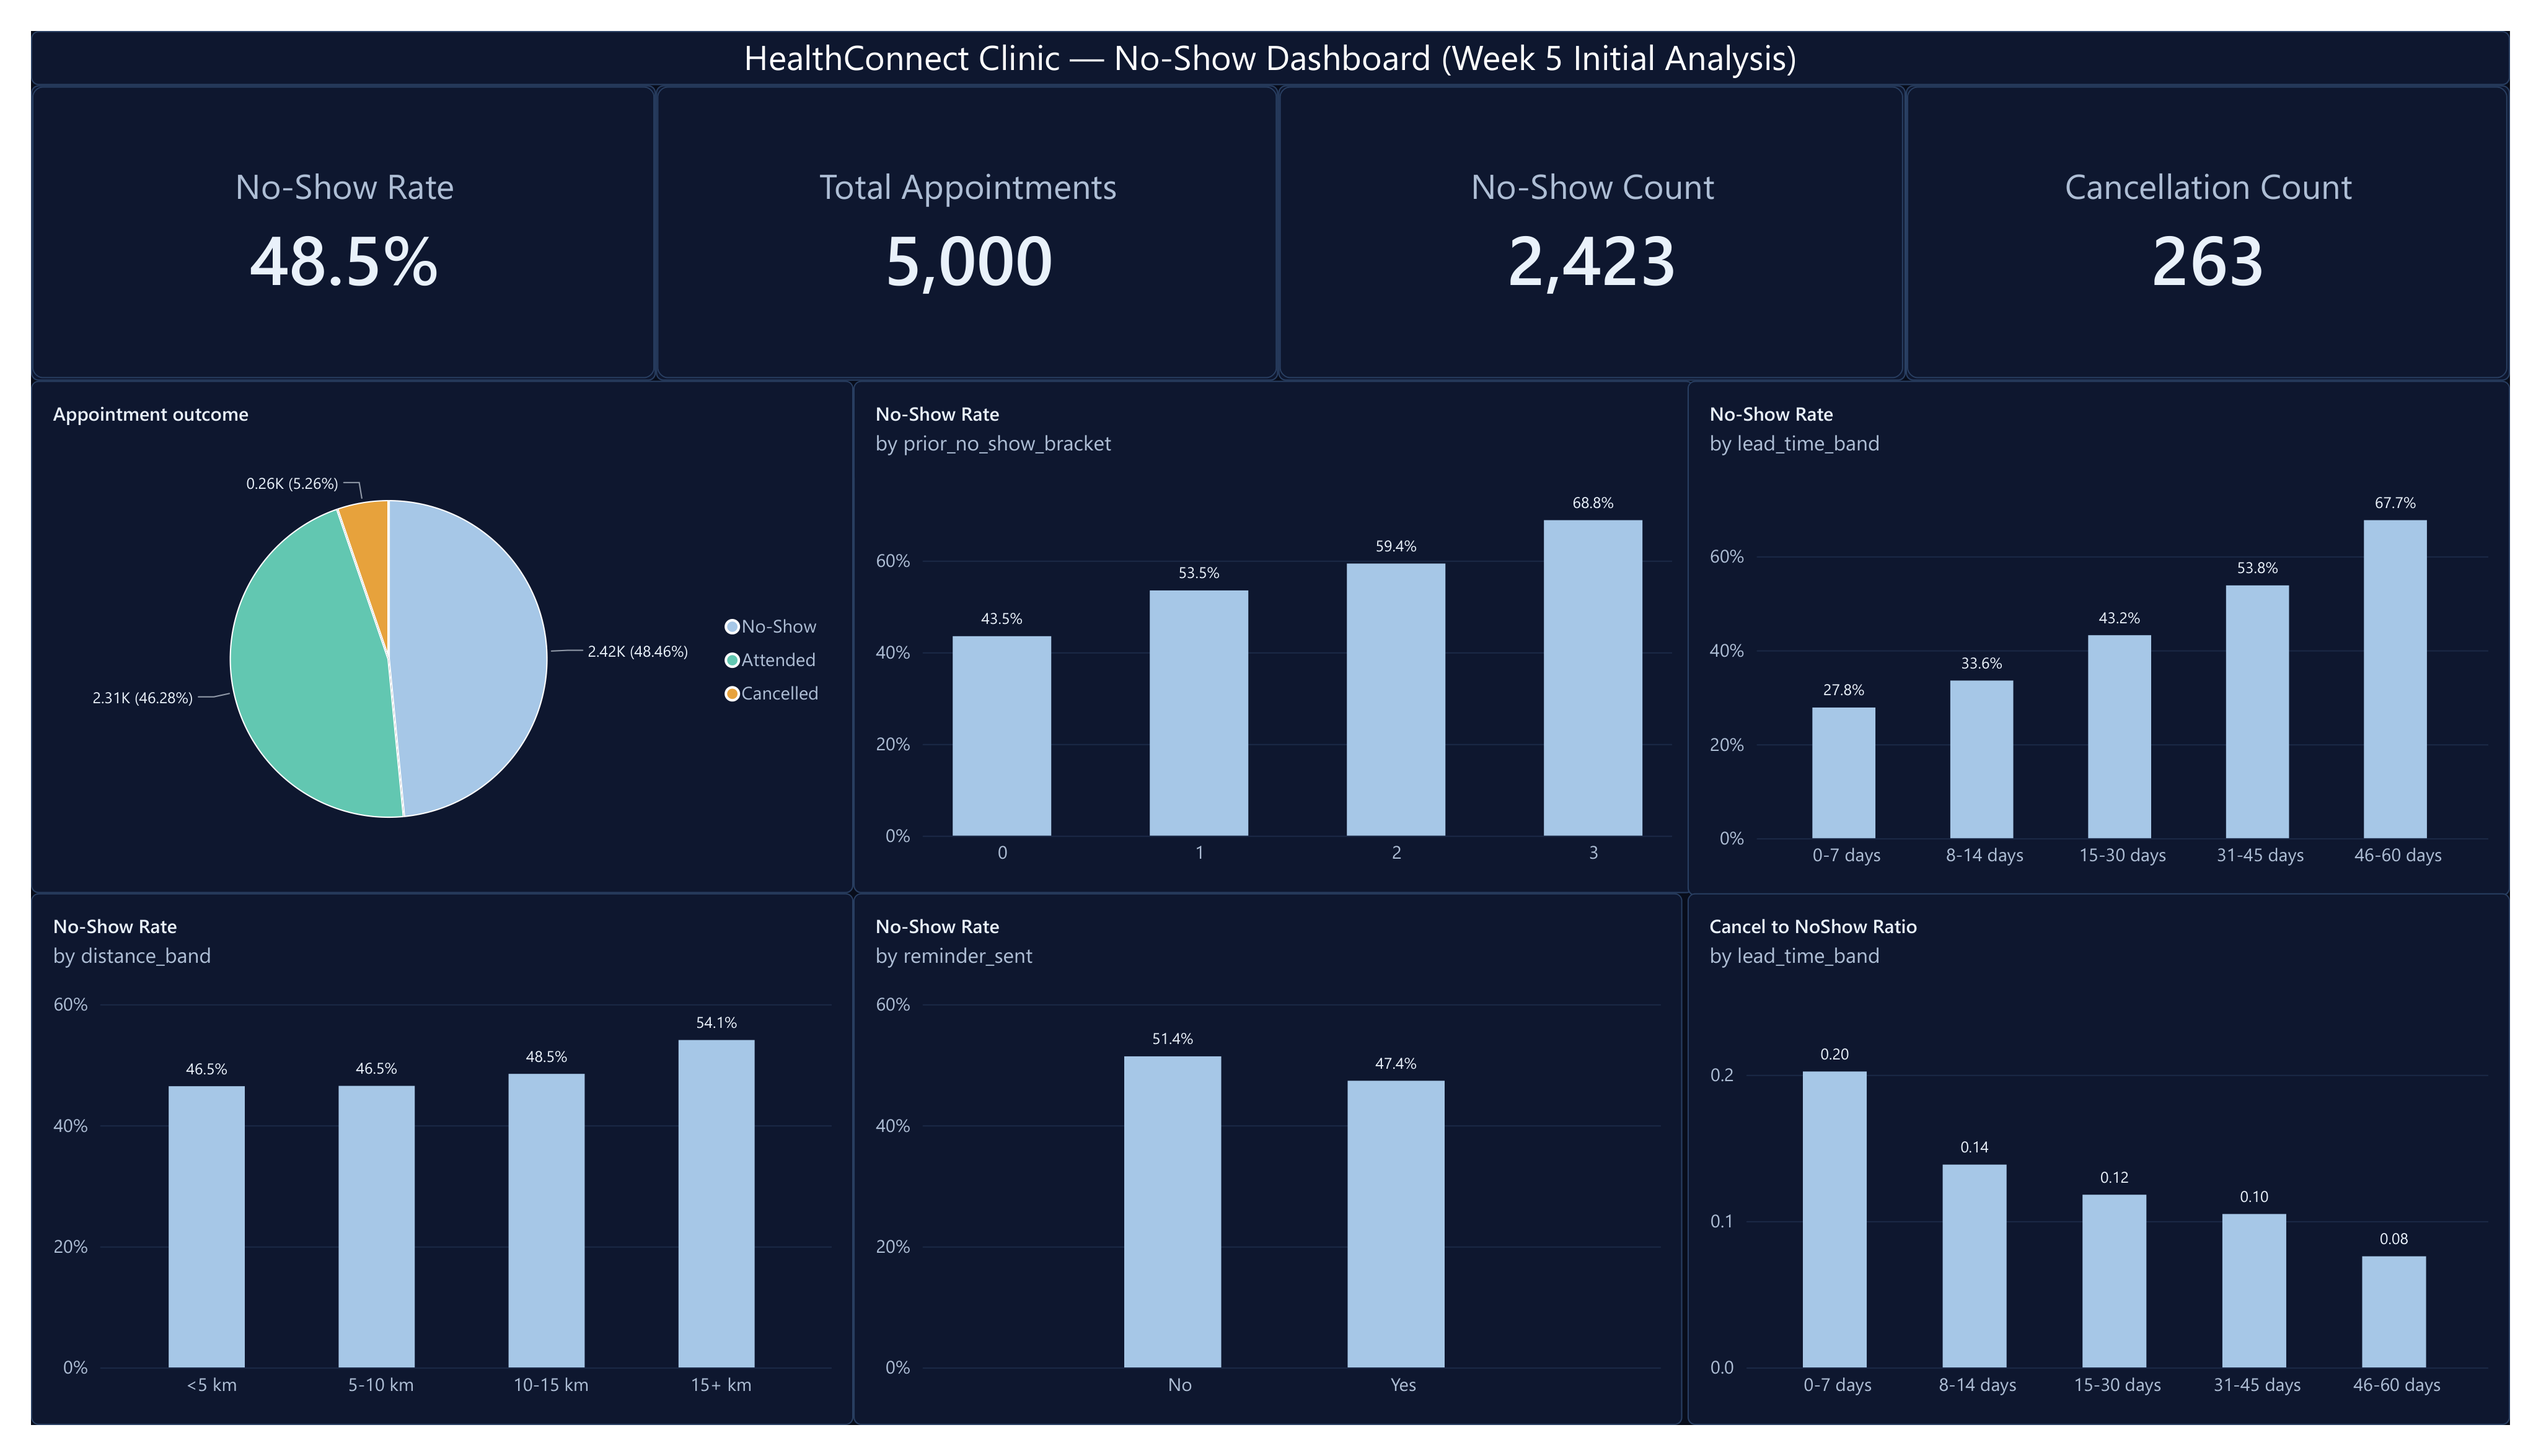

The dashboard page shown, as its layout file describes it:
{"tool":"powerbi","page":{"name":"Page 1","canvas":[1920,1080],"ordinal":0},"visuals":[{"type":"pieChart","title":"Appointment outcome","fields":{"Category":["healthconnect_appointments_prepared.appointment_outcome"],"Y":["CountNonNull(healthconnect_appointments_prepared.appointment_id)"]},"box":[0,270.6,636.8,397.5],"z":0},{"type":"clusteredColumnChart","fields":{"Y":["healthconnect_appointments_prepared.No-Show Rate"],"Category":["healthconnect_appointments_prepared.prior_no_show_bracket"]},"box":[636.8,270.6,651.5,397.5],"z":1000},{"type":"clusteredColumnChart","fields":{"Y":["healthconnect_appointments_prepared.No-Show Rate"],"Category":["healthconnect_appointments_prepared.distance_band"]},"box":[0,668.1,636.8,412.3],"z":2000},{"type":"clusteredColumnChart","fields":{"Y":["healthconnect_appointments_prepared.No-Show Rate"],"Category":["healthconnect_appointments_prepared.reminder_sent"]},"box":[636.8,668.1,642.3,412.3],"z":3000},{"type":"clusteredColumnChart","fields":{"Category":["healthconnect_appointments_prepared.lead_time_band"],"Y":["healthconnect_appointments_prepared.No-Show Rate"]},"box":[1282.8,270.6,636.8,399.4],"z":4000},{"type":"clusteredColumnChart","fields":{"Y":["healthconnect_appointments_prepared.Cancel to NoShow Ratio"],"Category":["healthconnect_appointments_prepared.lead_time_band"]},"box":[1282.8,668.1,636.8,412.3],"z":5000},{"type":"textbox","box":[0,0,1920.4,41.7],"z":6000},{"type":"cardVisual","fields":{"Data":["healthconnect_appointments_prepared.No-Show Rate"]},"box":[0,42.3,484.1,228.2],"z":6001},{"type":"cardVisual","fields":{"Data":["healthconnect_appointments_prepared.Total Appointments"]},"box":[484.1,42.3,482.2,228.2],"z":6002},{"type":"cardVisual","fields":{"Data":["healthconnect_appointments_prepared.No-Show Count"]},"box":[966.3,42.3,485.9,228.2],"z":6003},{"type":"cardVisual","fields":{"Data":["healthconnect_appointments_prepared.Cancellation Count"]},"box":[1452.2,42.3,467.5,228.2],"z":6004}]}

Visuals, with their boxes on the page's 1920x1080 design canvas (x1, y1, x2, y2). These are canvas units, not pixel positions in the 2541x1456 screenshot, which may show the page scaled, cropped or inside an application window:
"Appointment outcome" pieChart: <region>0, 271, 637, 668</region>
clusteredColumnChart - healthconnect_appointments_prepared.No-Show Rate x healthconnect_appointments_prepared.prior_no_show_bracket: <region>637, 271, 1288, 668</region>
clusteredColumnChart - healthconnect_appointments_prepared.No-Show Rate x healthconnect_appointments_prepared.distance_band: <region>0, 668, 637, 1080</region>
clusteredColumnChart - healthconnect_appointments_prepared.No-Show Rate x healthconnect_appointments_prepared.reminder_sent: <region>637, 668, 1279, 1080</region>
clusteredColumnChart - healthconnect_appointments_prepared.lead_time_band x healthconnect_appointments_prepared.No-Show Rate: <region>1283, 271, 1920, 670</region>
clusteredColumnChart - healthconnect_appointments_prepared.Cancel to NoShow Ratio x healthconnect_appointments_prepared.lead_time_band: <region>1283, 668, 1920, 1080</region>
textbox: <region>0, 0, 1920, 42</region>
cardVisual - healthconnect_appointments_prepared.No-Show Rate: <region>0, 42, 484, 270</region>
cardVisual - healthconnect_appointments_prepared.Total Appointments: <region>484, 42, 966, 270</region>
cardVisual - healthconnect_appointments_prepared.No-Show Count: <region>966, 42, 1452, 270</region>
cardVisual - healthconnect_appointments_prepared.Cancellation Count: <region>1452, 42, 1920, 270</region>
